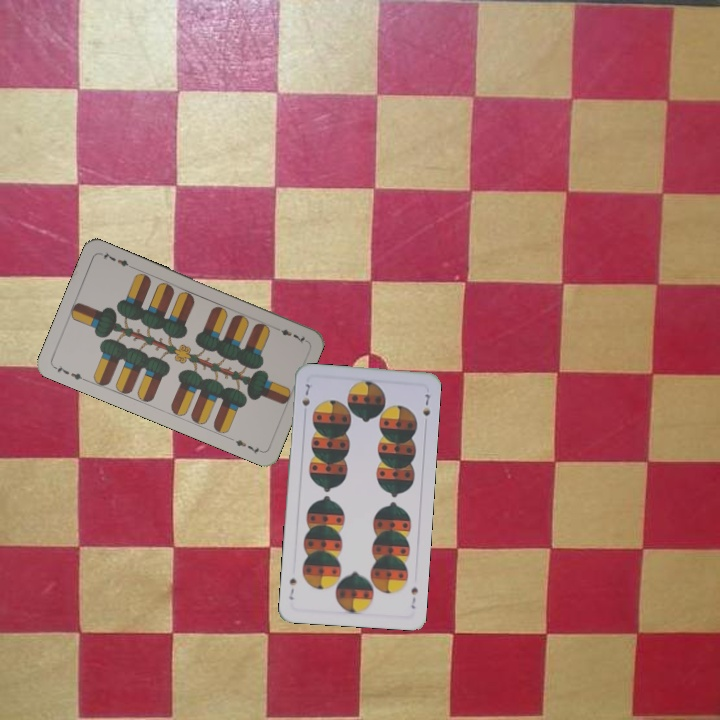E7: (270, 323, 309, 346), (50, 362, 89, 384)
S7: (298, 380, 313, 409), (407, 583, 420, 611)
